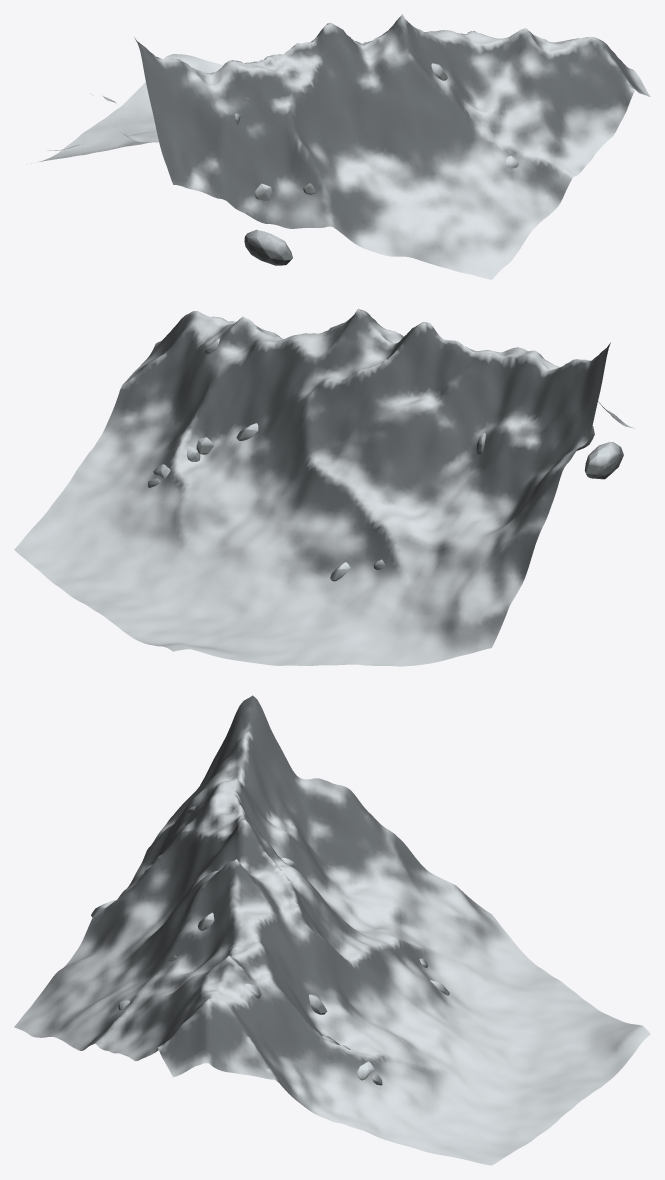
3 views of the same model, one above another, from view 1: azimuth 30°, elevation 25°; view 2: azimuth 150°, elevation 25°; view 3: azimuth 270°, elevation 25° (orthographic).
Parts seen in each view (by area): view 1: terrain_v10, supported_bedrock; view 2: terrain_v10, supported_bedrock; view 3: terrain_v10, supported_bedrock.
Part boxes in pixels (x1,y1,x2,y2): terrain_v10: (31,14,650,279); supported_bedrock: (235,63,518,265); terrain_v10: (14,308,633,666); supported_bedrock: (148,338,623,581); terrain_v10: (14,695,650,1165); supported_bedrock: (91,804,449,1085).
Bounding box in the file's own units: 4330 × 2096 × 5000.
2 materials, 2 textured.
